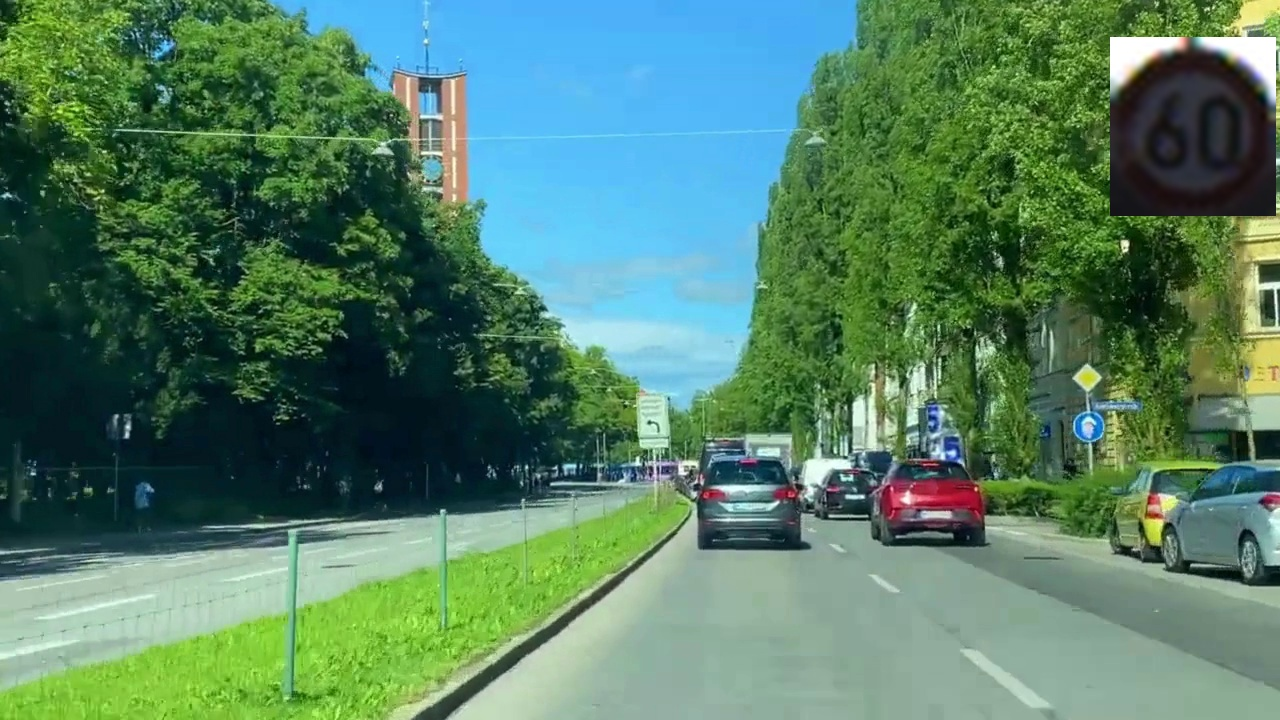Speed 60: (1110, 37, 1276, 216)
